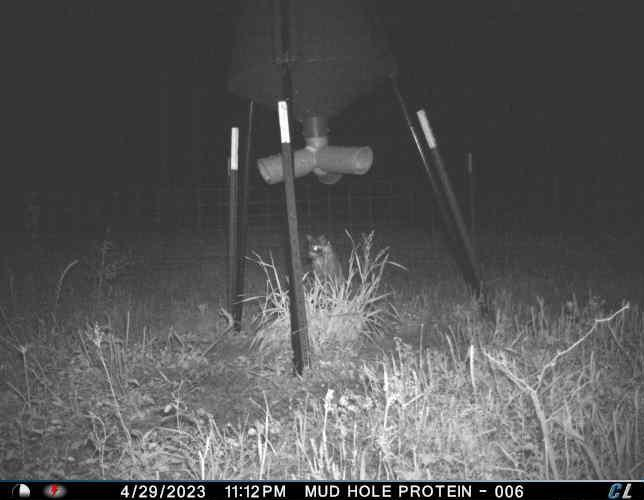Raccoon: (304, 230, 342, 290)
